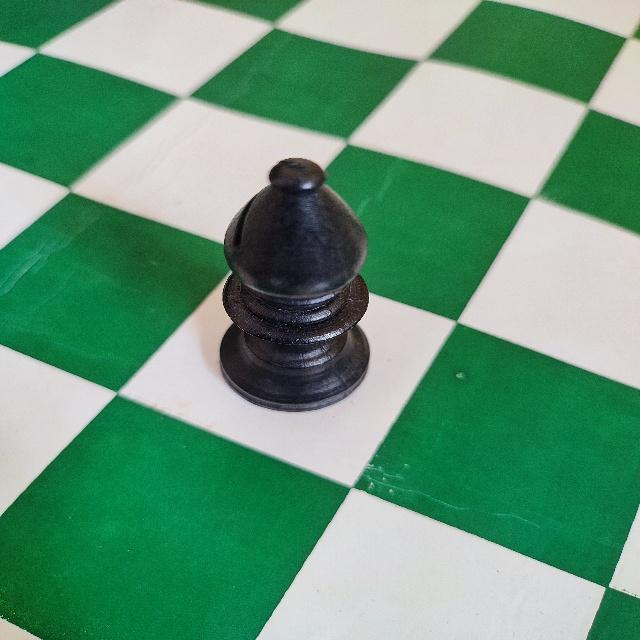Bishop: (218, 155, 373, 416)
